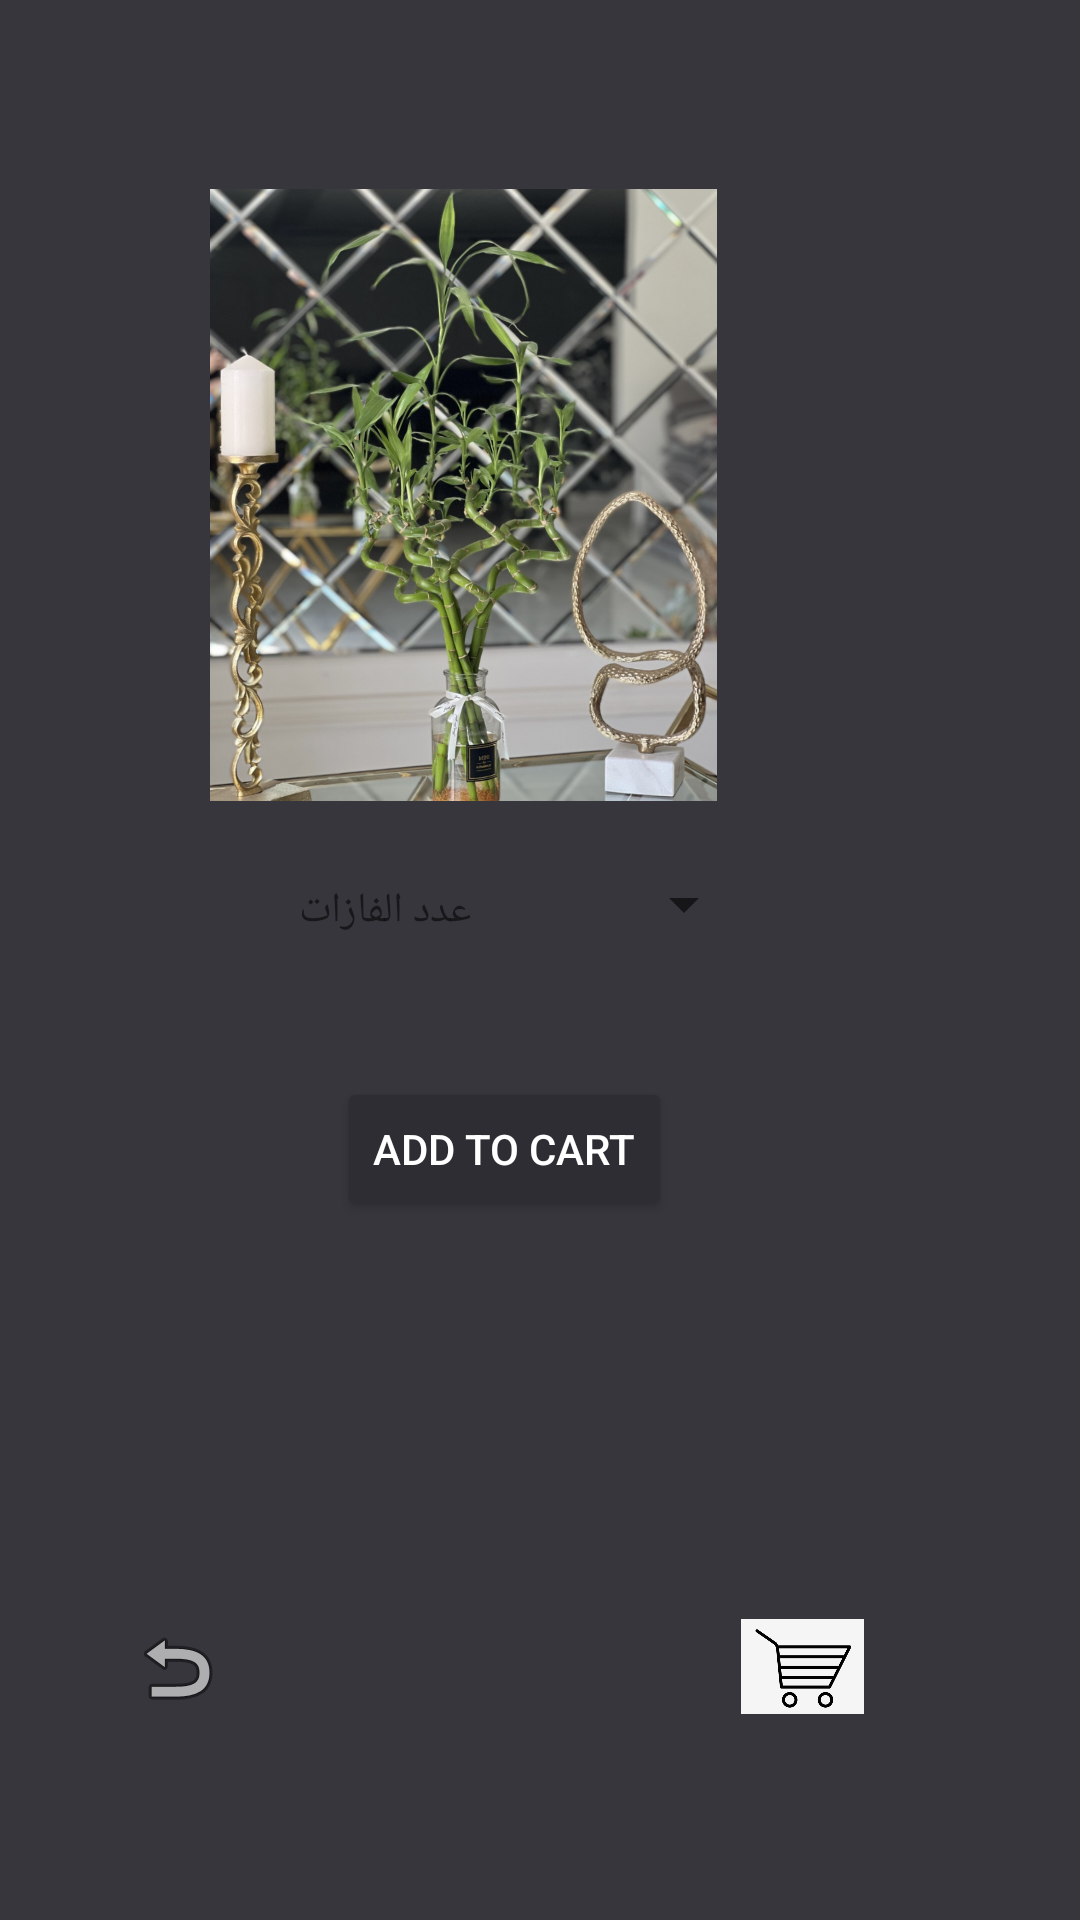

Where icons sit on this 1080px x 1920px app screen, as {"left": x1, "top": y1, "right": x2, "bottom": y2}:
revert: {"left": 145, "top": 1639, "right": 211, "bottom": 1698}
